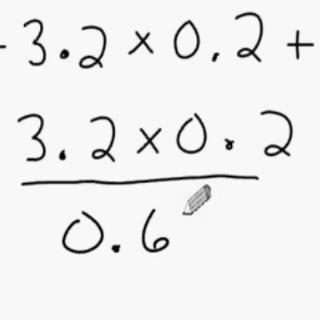.: (215, 126, 240, 157), (52, 141, 72, 166), (53, 42, 72, 66), (204, 43, 224, 64), (108, 239, 123, 259)
0: (55, 204, 106, 258), (171, 108, 211, 157), (166, 16, 206, 62)
2: (227, 10, 274, 68), (71, 17, 113, 79), (254, 99, 294, 162), (87, 108, 120, 170)
3: (13, 108, 50, 166), (16, 13, 50, 68)
6: (130, 199, 171, 252)
